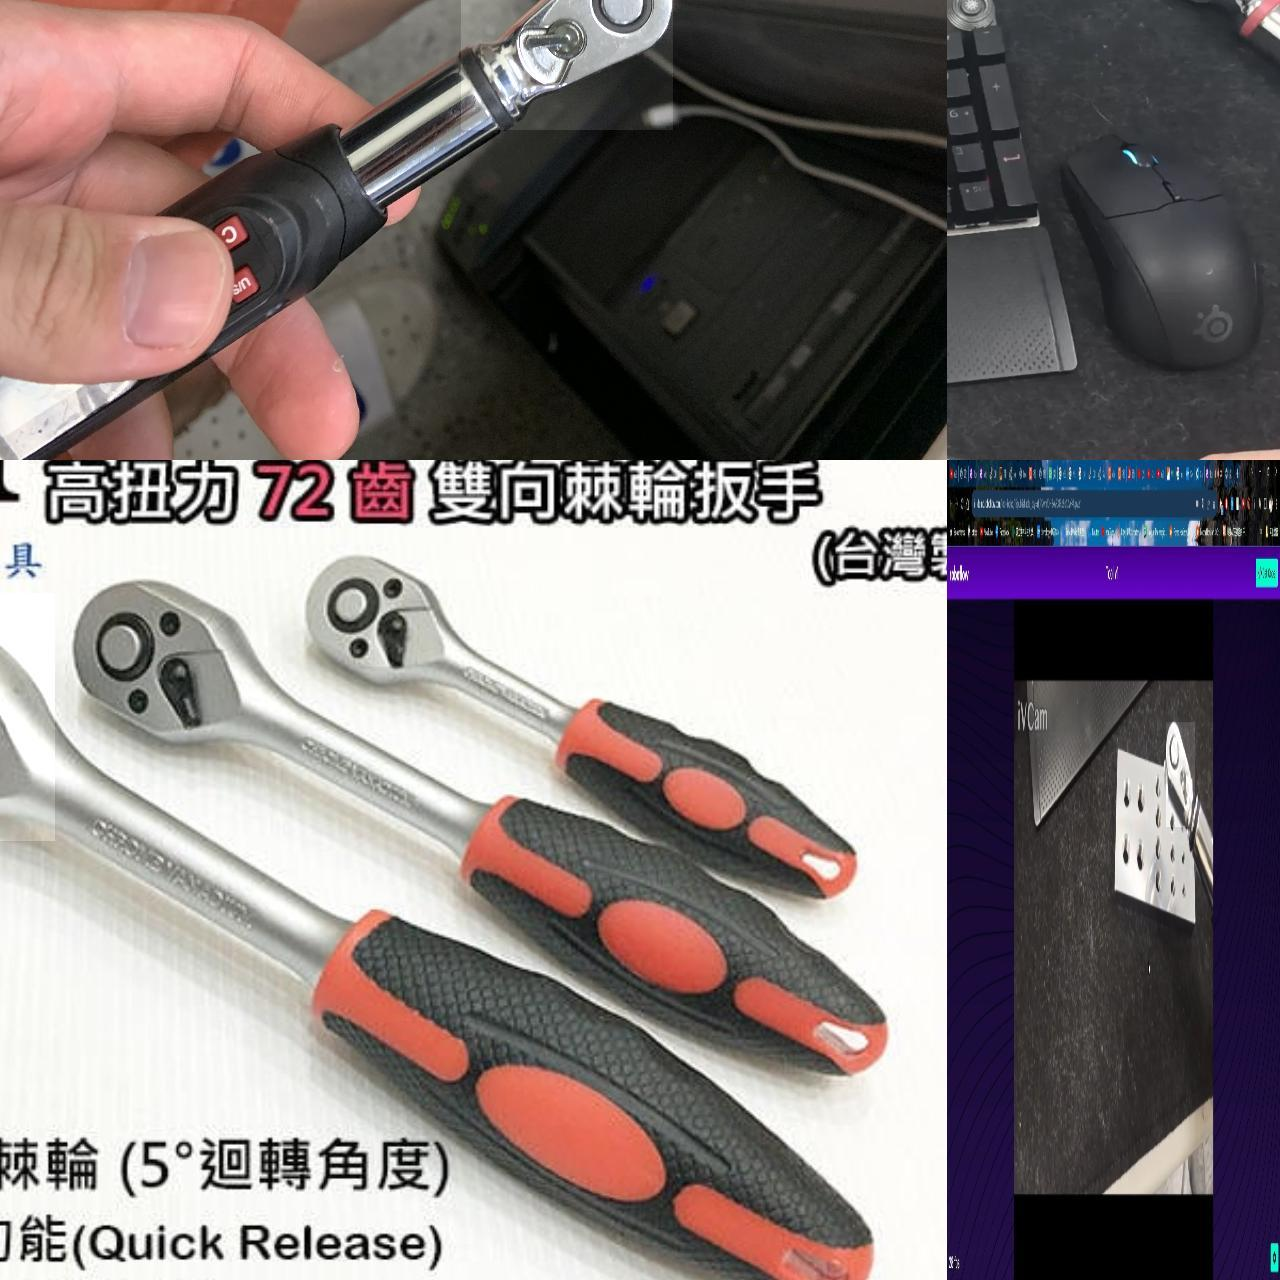Tool: (75, 581, 259, 753), (461, 0, 673, 130), (302, 552, 449, 696), (0, 593, 55, 840), (1165, 722, 1194, 828)
hole: (1133, 840, 1146, 874), (1136, 783, 1149, 815), (1121, 832, 1132, 866), (1122, 777, 1132, 810), (1165, 812, 1179, 831), (1153, 867, 1163, 893), (1153, 805, 1163, 829), (1167, 846, 1177, 867), (1153, 778, 1162, 801), (1155, 837, 1162, 860), (1169, 877, 1177, 897), (1179, 852, 1187, 865), (1182, 884, 1187, 898)
